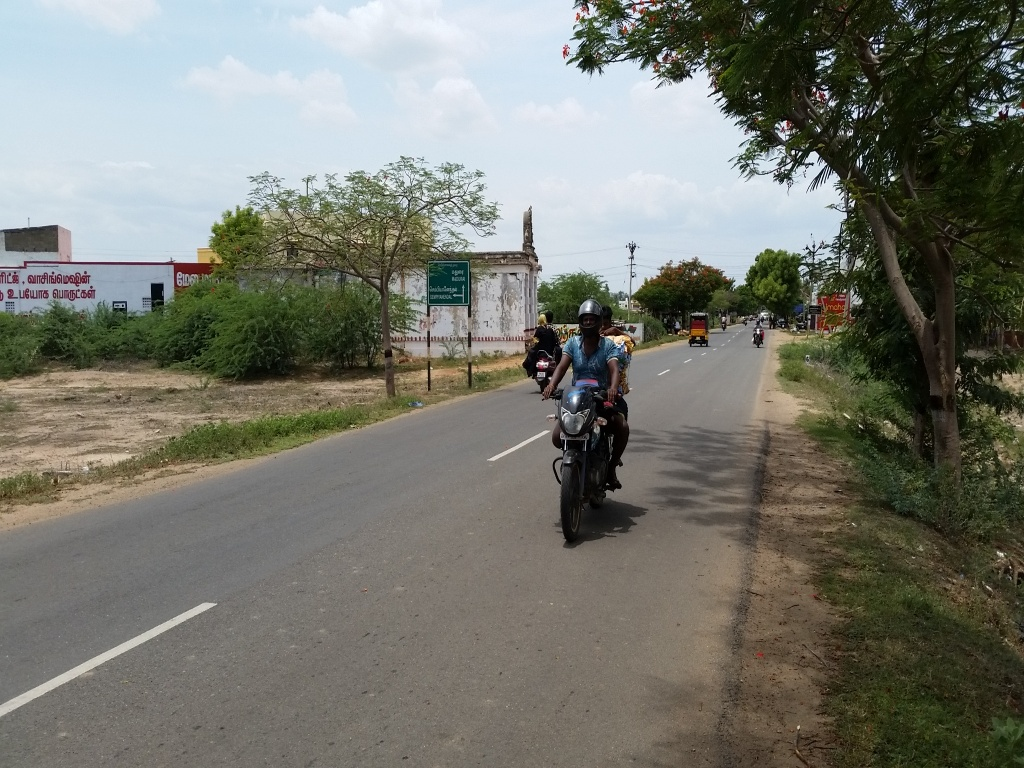biker: (550, 277, 660, 546), (515, 292, 566, 396)
helmet: (573, 297, 602, 343)
nohelmet: (601, 302, 614, 335), (535, 311, 547, 328), (545, 309, 555, 329)
